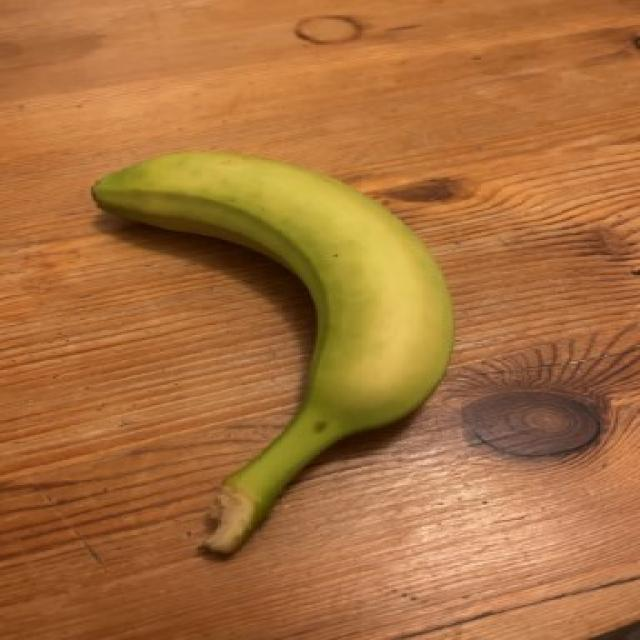Unripe: (67, 127, 489, 564)
